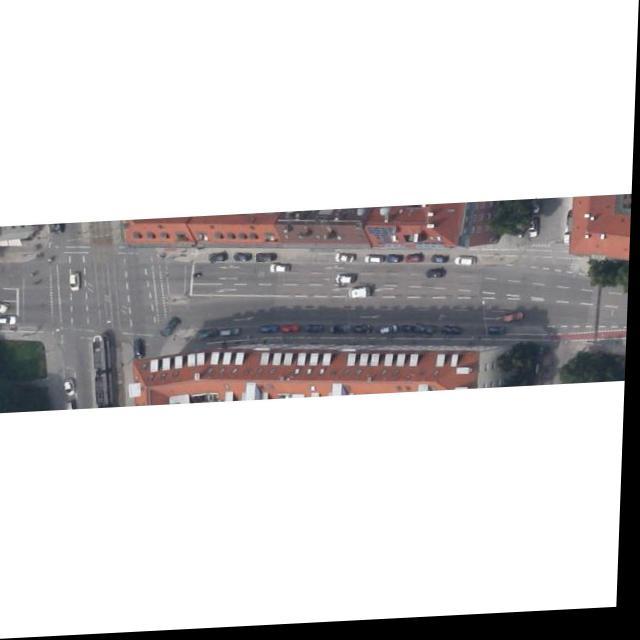vehicle: (163, 317, 184, 338), (350, 290, 373, 304), (417, 328, 438, 340), (66, 378, 79, 397), (137, 340, 149, 360), (457, 260, 478, 271), (212, 253, 231, 265), (337, 277, 357, 288), (333, 327, 353, 338), (72, 272, 83, 291), (429, 272, 448, 283), (272, 265, 292, 275), (200, 331, 220, 341), (446, 330, 466, 340), (384, 328, 402, 339), (407, 258, 426, 268), (506, 318, 526, 327), (433, 258, 450, 268), (338, 257, 356, 266), (530, 224, 539, 242), (285, 327, 303, 336), (356, 328, 374, 337), (223, 330, 243, 338), (0, 299, 11, 313), (236, 254, 253, 263), (0, 316, 19, 324), (258, 256, 276, 264), (367, 258, 385, 266), (308, 328, 326, 336), (533, 204, 542, 218), (492, 332, 507, 340), (388, 259, 404, 266), (264, 328, 280, 335), (404, 329, 416, 337)
